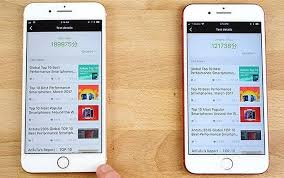iphone: (176, 3, 271, 178), (175, 3, 270, 178)
iphone7: (17, 1, 112, 176), (14, 1, 109, 174)
